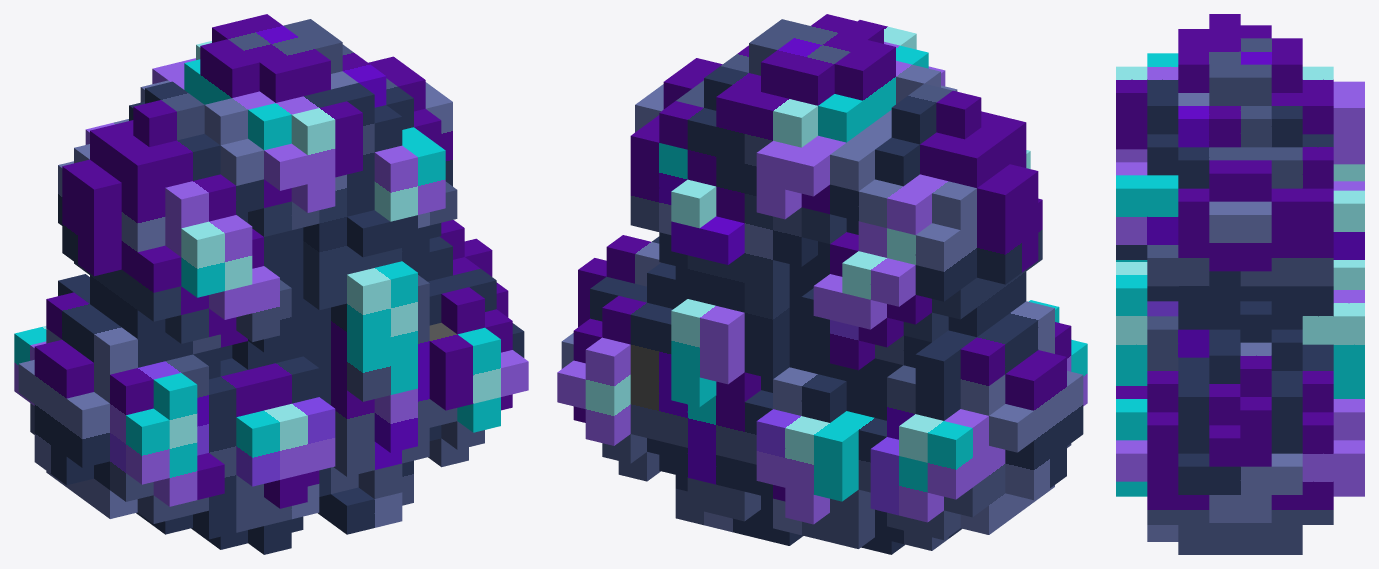
File: ui_icon_magistone_ore.gltf
3 renders of one model, left to right at view 1: azimuth 30°, elevation 25°; view 2: azimuth 150°, elevation 25°; view 3: azimuth 270°, elevation 25°, orthographic. The views are drawn at different scales.
Visible parts, largest first — view 1: ui_icon_magistone_ore-Mesh; view 2: ui_icon_magistone_ore-Mesh; view 3: ui_icon_magistone_ore-Mesh.
Boxes of the visible parts, x1,y1,x2,y2 form: ui_icon_magistone_ore-Mesh: (14,14,528,554); ui_icon_magistone_ore-Mesh: (557,14,1087,554); ui_icon_magistone_ore-Mesh: (1116,14,1364,554).
Bounding box in the file's own units: 16 × 16 × 8.
1 material, 1 textured.
